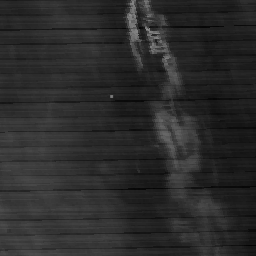Target: (108, 93, 114, 99)
